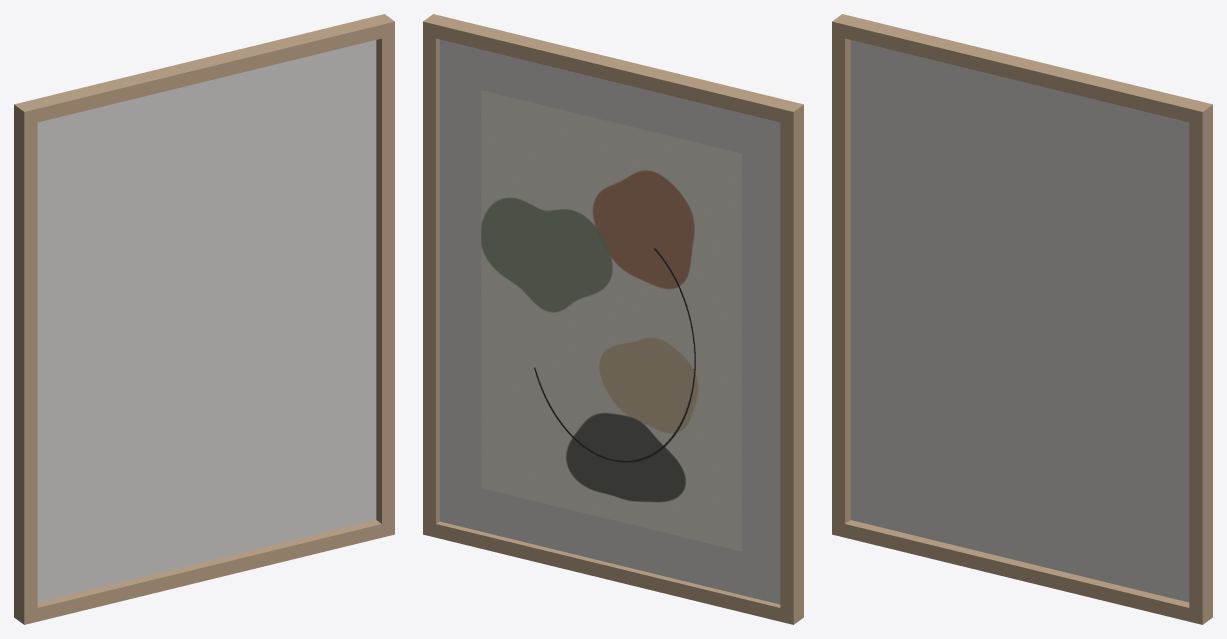
The model's file is art2.glb.
3 renders of one model, left to right at view 1: azimuth 30°, elevation 25°; view 2: azimuth 150°, elevation 25°; view 3: azimuth 330°, elevation 25°, orthographic.
Parts seen in each view (by area): view 1: mount, frame.003, frame, frame.002, frame.001; view 2: print, mount, frame.003, frame, frame.002, frame.001; view 3: mount, frame.002, frame, frame.003, frame.001.
Part boxes in pixels (left/top/right/bottom): mount: left=37, top=40, right=376, bottom=602; frame.003: left=14, top=118, right=37, bottom=610; frame: left=14, top=14, right=394, bottom=125; frame.002: left=376, top=35, right=394, bottom=523; frame.001: left=14, top=520, right=394, bottom=624; print: left=481, top=90, right=741, bottom=551; mount: left=439, top=39, right=780, bottom=604; frame.003: left=780, top=118, right=803, bottom=610; frame: left=423, top=14, right=803, bottom=125; frame.002: left=423, top=35, right=439, bottom=523; frame.001: left=423, top=521, right=803, bottom=624; mount: left=850, top=40, right=1189, bottom=602; frame.002: left=1189, top=118, right=1212, bottom=610; frame: left=832, top=14, right=1212, bottom=125; frame.003: left=832, top=35, right=850, bottom=523; frame.001: left=832, top=520, right=1212, bottom=624.
Bounding box in the file's own units: 0.62 × 0.82 × 0.03.
3 materials, 1 textured.
